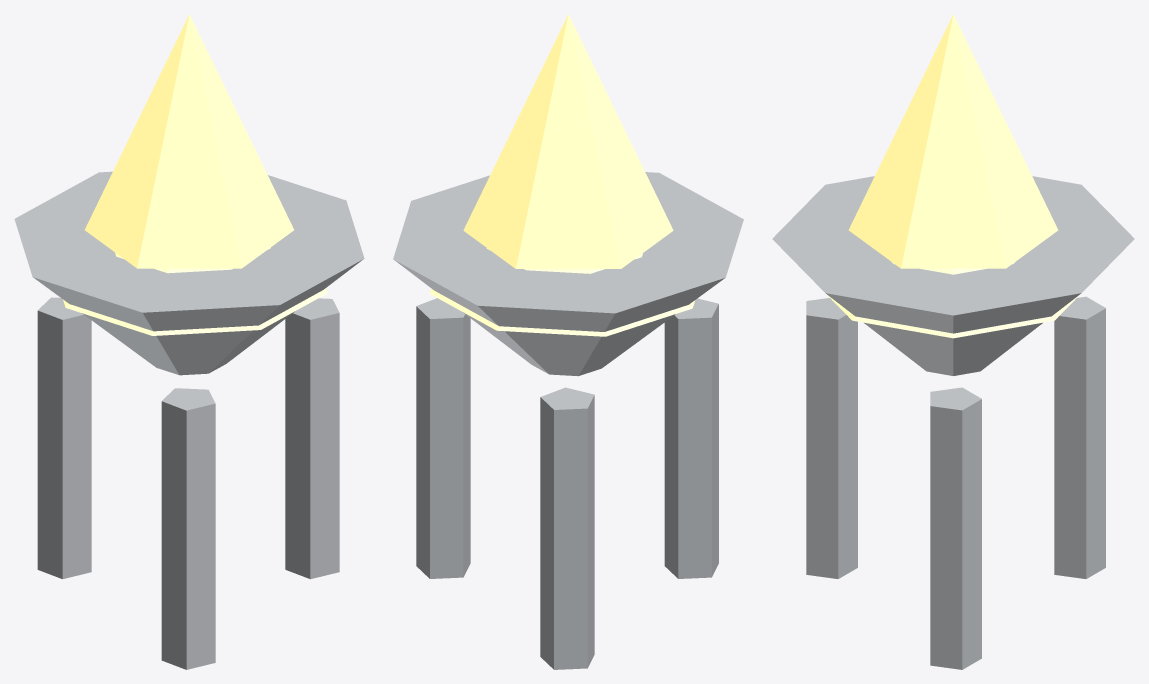
File: brazier.glb
3 views of the same model, side by side, from view 1: azimuth 30°, elevation 25°; view 2: azimuth 150°, elevation 25°; view 3: azimuth 270°, elevation 25° (orthographic).
Visible parts, largest first — view 1: bowl, flame.001, leg.014, leg.012, leg.013, coal; view 2: bowl, flame.001, leg.013, leg.012, leg.014, coal; view 3: bowl, flame.001, leg.012, leg.013, leg.014, coal.
Boxes of the visible parts, <box> form: bowl: <box>14,171,364,375</box>; flame.001: <box>85,14,293,268</box>; leg.014: <box>161,388,215,669</box>; leg.012: <box>285,298,339,579</box>; leg.013: <box>37,297,91,579</box>; coal: <box>63,247,327,335</box>; bowl: <box>393,172,743,376</box>; flame.001: <box>463,14,673,268</box>; leg.013: <box>540,387,594,669</box>; leg.012: <box>416,298,470,578</box>; leg.014: <box>664,298,718,578</box>; coal: <box>430,248,695,336</box>; bowl: <box>772,176,1134,375</box>; flame.001: <box>848,14,1058,268</box>; leg.012: <box>930,387,981,669</box>; leg.013: <box>1054,296,1105,578</box>; leg.014: <box>806,298,857,578</box>; coal: <box>826,262,1080,338</box>.
Bounding box in the file's own units: 0.76 × 1.35 × 0.76.
